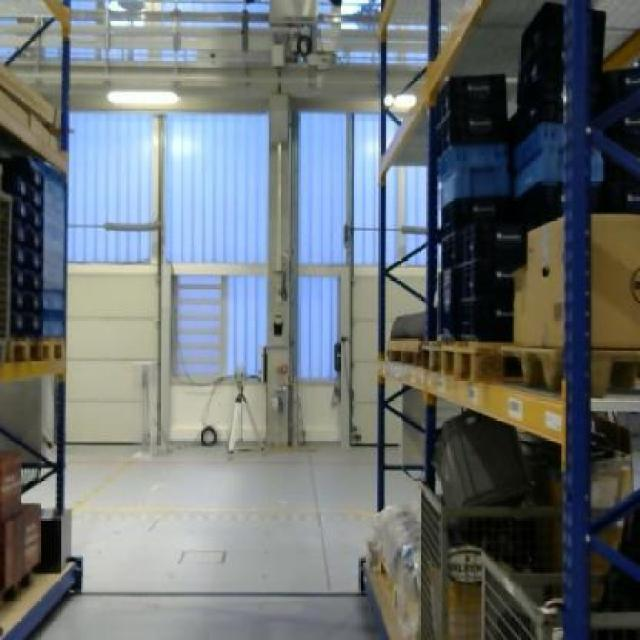box: (520, 215, 638, 348)
